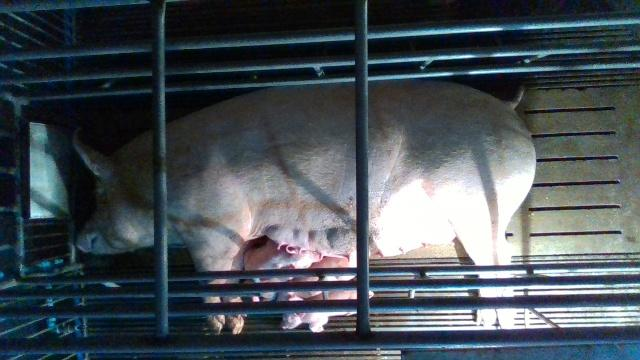piglet: (279, 290, 374, 335), (278, 256, 358, 300), (243, 238, 323, 281)
sow-sleep-lactate: (74, 80, 537, 333)
